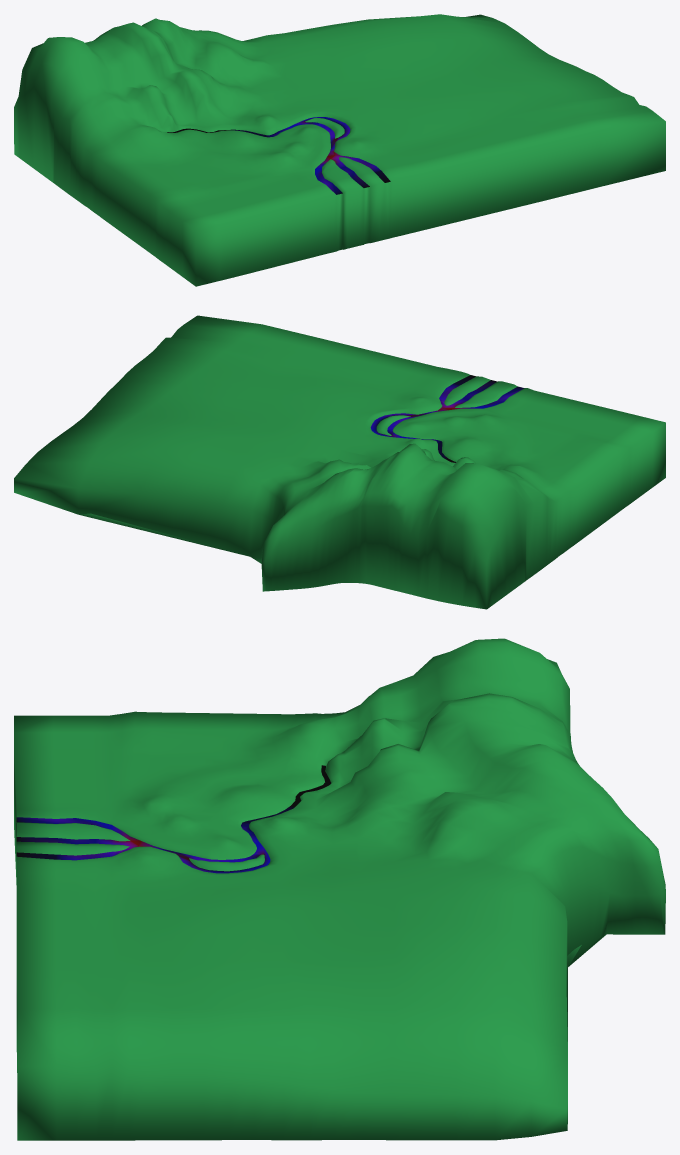
The model's file is env_front_end_map_3.fbx.
3 renders of one model, top to bottom at view 1: azimuth 30°, elevation 25°; view 2: azimuth 150°, elevation 25°; view 3: azimuth 270°, elevation 25°, orthographic. The views are drawn at different scales.
Parts seen in each view (by area): view 1: polySurface24, polySurface13; view 2: polySurface24, polySurface13; view 3: polySurface24, polySurface13.
Boxes of the visible parts, x1,y1,x2,y2 form: polySurface24: (14,14,665,286); polySurface13: (167,117,390,194); polySurface24: (14,315,665,609); polySurface13: (370,375,524,462); polySurface24: (14,638,665,1140); polySurface13: (16,765,331,873).
Size of the model in its own units: 1807 by 443 by 1455.
